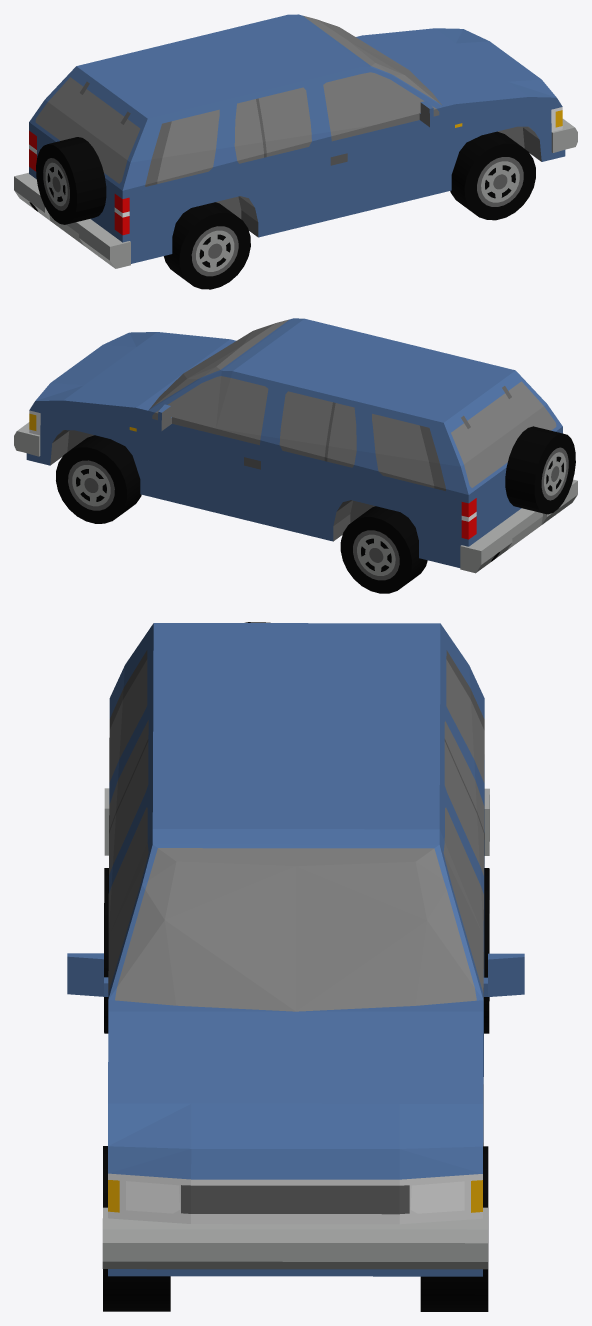
The model's file is scene_gHaiO1mIPi.glb.
3 views of the same model, one above another, from view 1: azimuth 30°, elevation 25°; view 2: azimuth 150°, elevation 25°; view 3: azimuth 270°, elevation 25° (orthographic). The views are drawn at different scales.
Parts seen in each view (by area): view 1: Mesh1 Component_1_1 Model, Mesh5 Component_1_1 Model, Mesh2 Component_1_1 Model; view 2: Mesh1 Component_1_1 Model, Mesh4 Component_1_1 Model, Mesh3 Component_1_1 Model; view 3: Mesh1 Component_1_1 Model, Mesh4 Component_1_1 Model, Mesh5 Component_1_1 Model.
Boxes of the visible parts, x1,y1,x2,y2 form: Mesh1 Component_1_1 Model: (14, 14, 577, 268); Mesh5 Component_1_1 Model: (450, 131, 535, 220); Mesh2 Component_1_1 Model: (164, 202, 250, 289); Mesh1 Component_1_1 Model: (14, 318, 577, 573); Mesh4 Component_1_1 Model: (56, 435, 141, 523); Mesh3 Component_1_1 Model: (340, 506, 427, 593); Mesh1 Component_1_1 Model: (67, 622, 524, 1276); Mesh4 Component_1_1 Model: (420, 1146, 488, 1311); Mesh5 Component_1_1 Model: (103, 1146, 170, 1311).
Size of the model in its own units: 2.16 by 0.7438 by 0.885.
